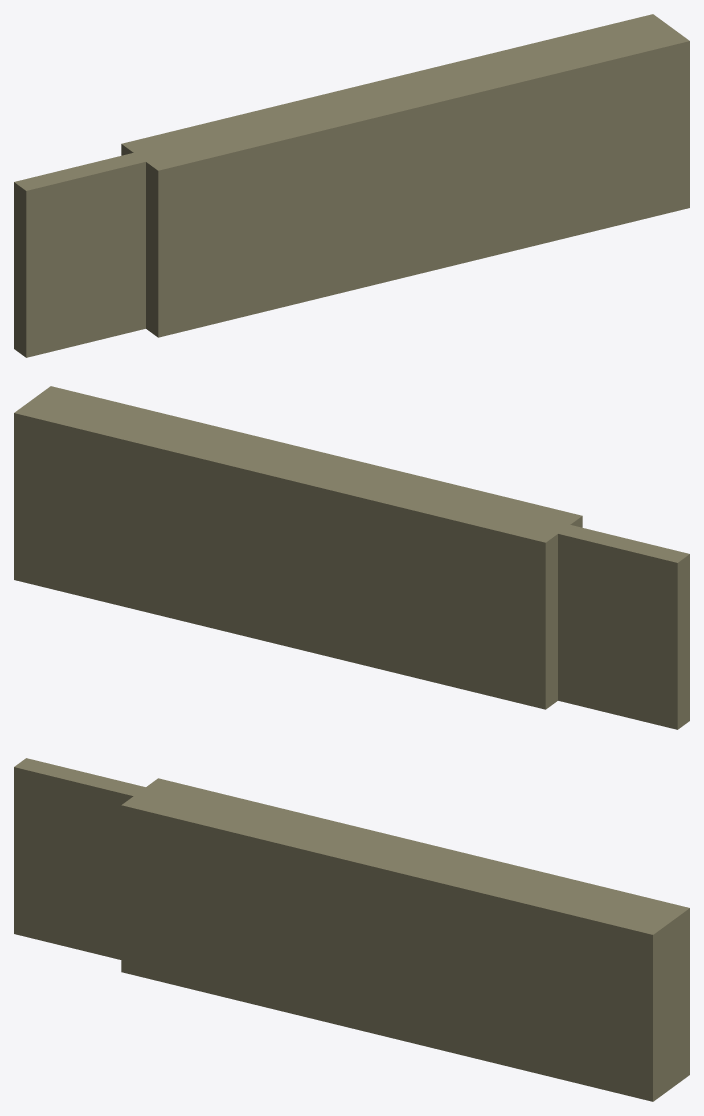
File: lake-marinka-shallows-4.glb
3 views of the same model, one above another, from view 1: azimuth 30°, elevation 25°; view 2: azimuth 150°, elevation 25°; view 3: azimuth 330°, elevation 25° (orthographic).
Parts seen in each view (by area): view 1: body, tail; view 2: body, tail; view 3: body, tail.
Boxes of the visible parts, x1,y1,x2,y2 form: body: (121,14,689,337); tail: (14,150,157,357); body: (14,386,582,709); tail: (545,521,689,729); body: (121,778,689,1101); tail: (14,758,151,959).
Size of the model in its own units: 0.5512 by 0.135 by 0.054.
